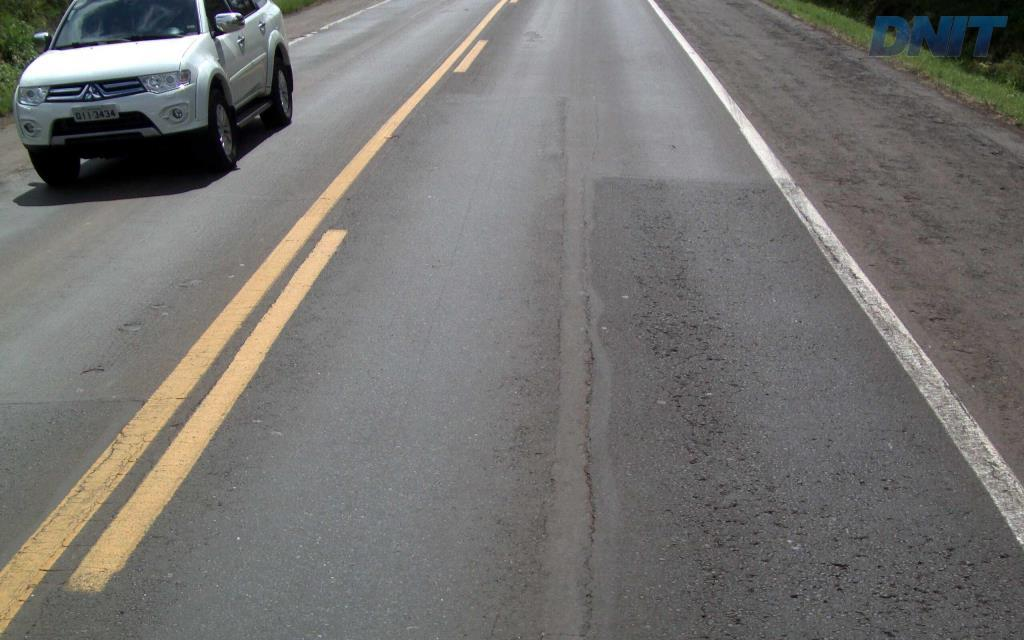crack: (673, 492, 867, 631), (836, 526, 1023, 639), (824, 522, 886, 571), (681, 413, 731, 454), (751, 496, 808, 529), (789, 585, 834, 620), (681, 395, 712, 430)
